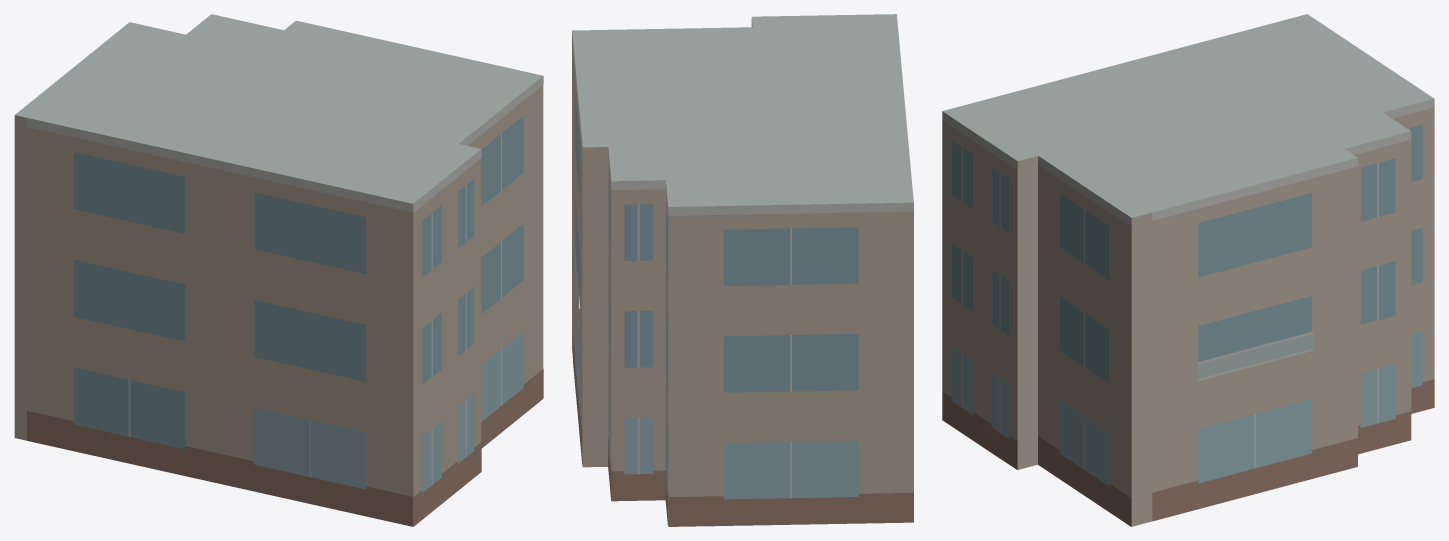
Rendered from survey-upis-32749882.glb.
3 views of the same model, side by side, from view 1: azimuth 30°, elevation 25°; view 2: azimuth 150°, elevation 25°; view 3: azimuth 270°, elevation 25° (orthographic). The views are drawn at different scales.
Parts seen in each view (by area): view 1: survey-upis-32749882.tmp; view 2: survey-upis-32749882.tmp; view 3: survey-upis-32749882.tmp.
Part boxes in pixels (x1,y1,x2,y2): survey-upis-32749882.tmp: (14, 14, 543, 526); survey-upis-32749882.tmp: (572, 14, 913, 526); survey-upis-32749882.tmp: (942, 14, 1434, 526).
Bounding box in the file's own units: 12.46 × 8.8 × 12.72.
